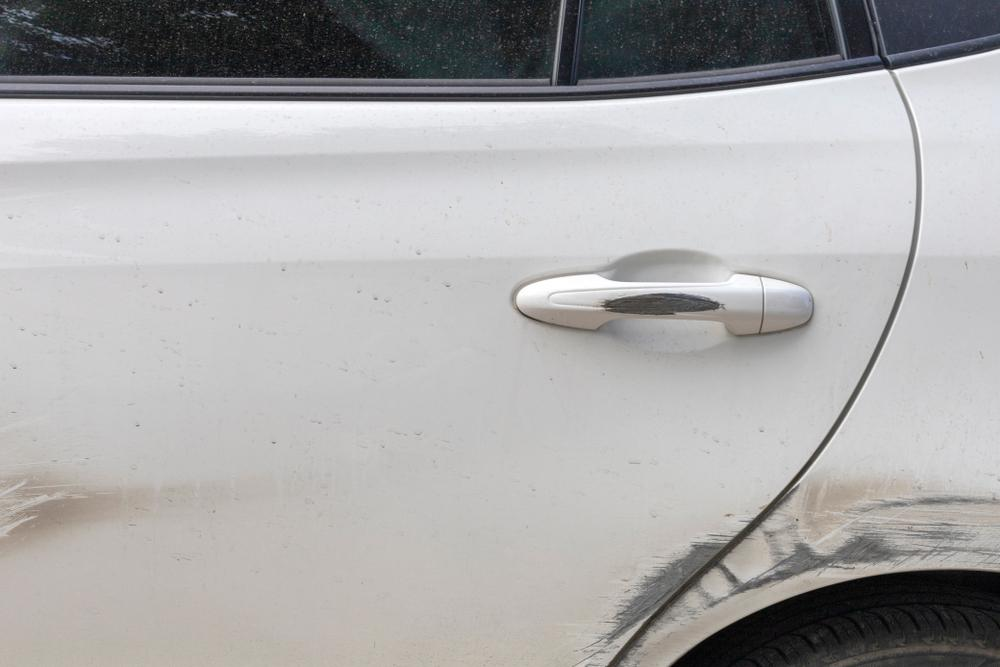scratch: (602, 479, 1000, 667), (564, 505, 769, 667), (597, 291, 728, 314)
